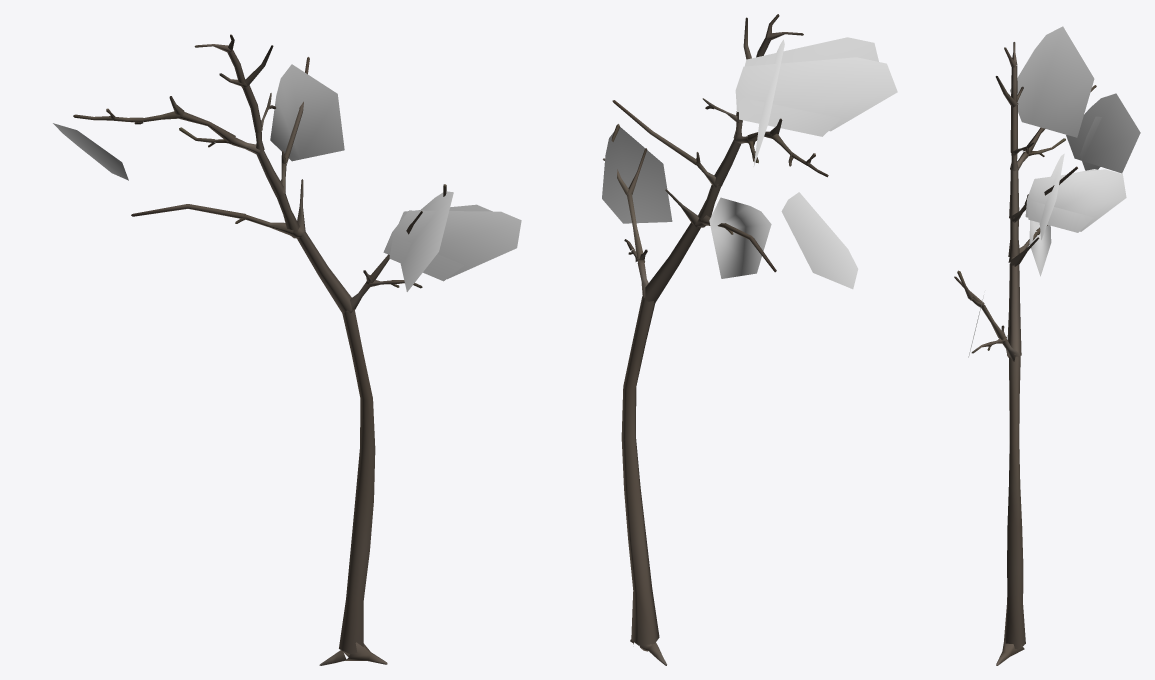
Rendered from sapling_3.glb.
3 renders of one model, left to right at view 1: azimuth 30°, elevation 25°; view 2: azimuth 150°, elevation 25°; view 3: azimuth 270°, elevation 25°, orthographic. The views are drawn at different scales.
Visible parts, largest first — view 1: sapling_3; view 2: sapling_3; view 3: sapling_3.
Boxes of the visible parts, x1,y1,x2,y2 form: sapling_3: [53, 34, 521, 665]; sapling_3: [602, 14, 897, 665]; sapling_3: [954, 26, 1140, 665].
Bounding box in the file's own units: 1.33 × 2.12 × 0.7329.
